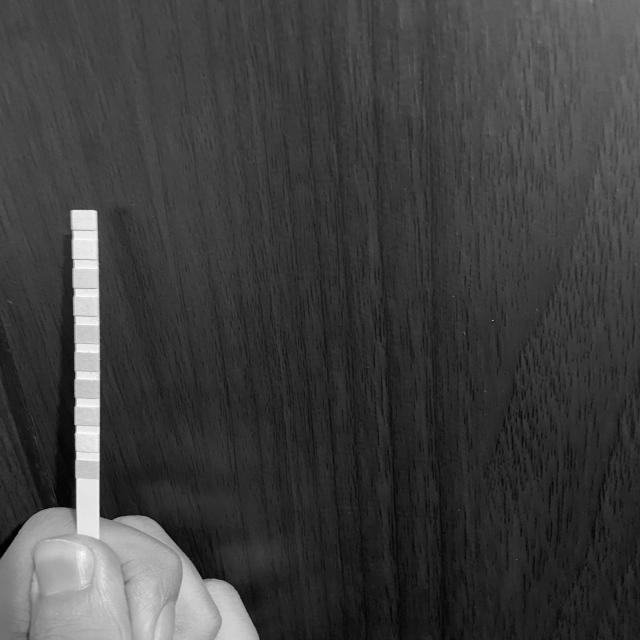Bilirubin: (76, 435, 100, 451)
Blood: (74, 353, 100, 371)
Glucose: (76, 462, 99, 478)
Ketone: (74, 408, 100, 424)
Leukocytes: (70, 210, 96, 230)
Nitrite: (72, 241, 98, 258)
Protein: (73, 297, 99, 315)
SpGravity: (74, 380, 100, 398)
Urobilinogen: (72, 270, 99, 288)
background: (0, 0, 640, 640)
pH: (74, 325, 100, 343)
strip: (72, 210, 100, 529)
